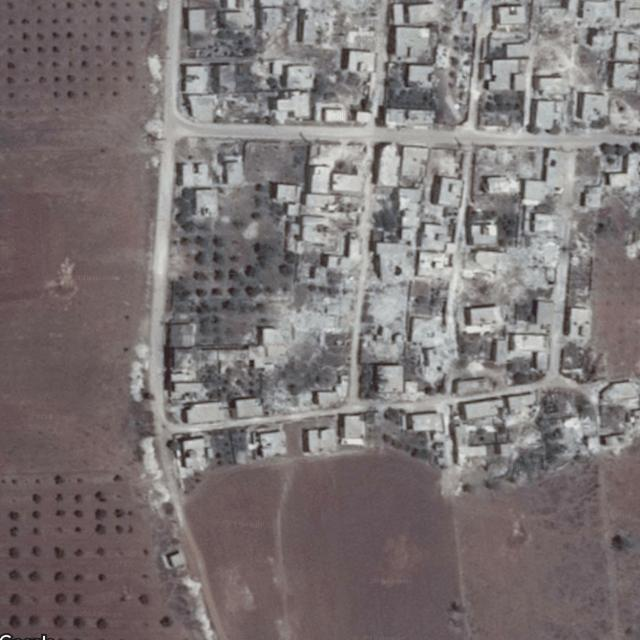damaged_building: (361, 249, 458, 375), (464, 212, 562, 301), (272, 268, 357, 354), (529, 0, 619, 77)
